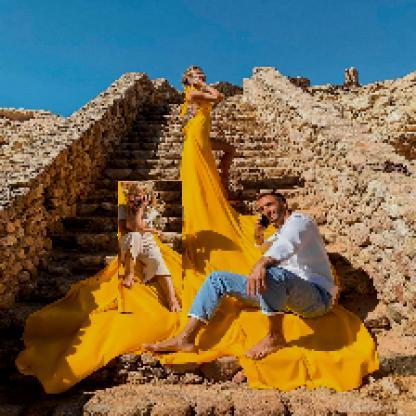child: (119, 182, 184, 314)
